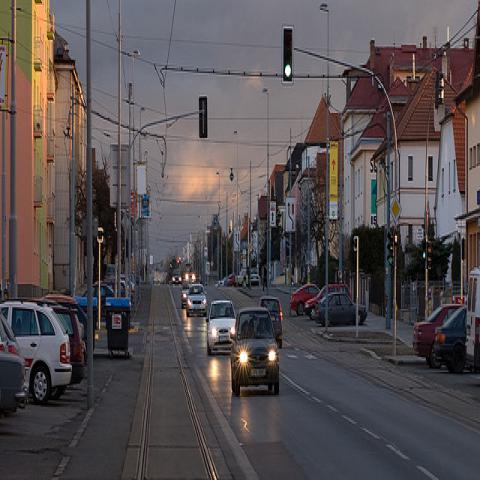car: (1, 241, 479, 425), (0, 300, 72, 406), (230, 306, 279, 396), (48, 304, 86, 391), (412, 303, 459, 368), (433, 308, 468, 377), (315, 292, 368, 326), (205, 300, 237, 355), (256, 294, 284, 348), (290, 283, 320, 319), (305, 284, 326, 320), (186, 283, 207, 318), (329, 284, 353, 303), (181, 284, 189, 308)
